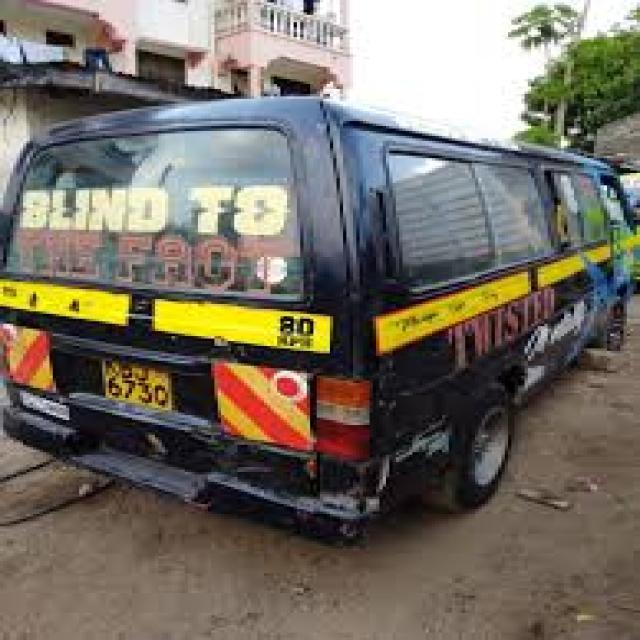matatu: (0, 18, 640, 555)
